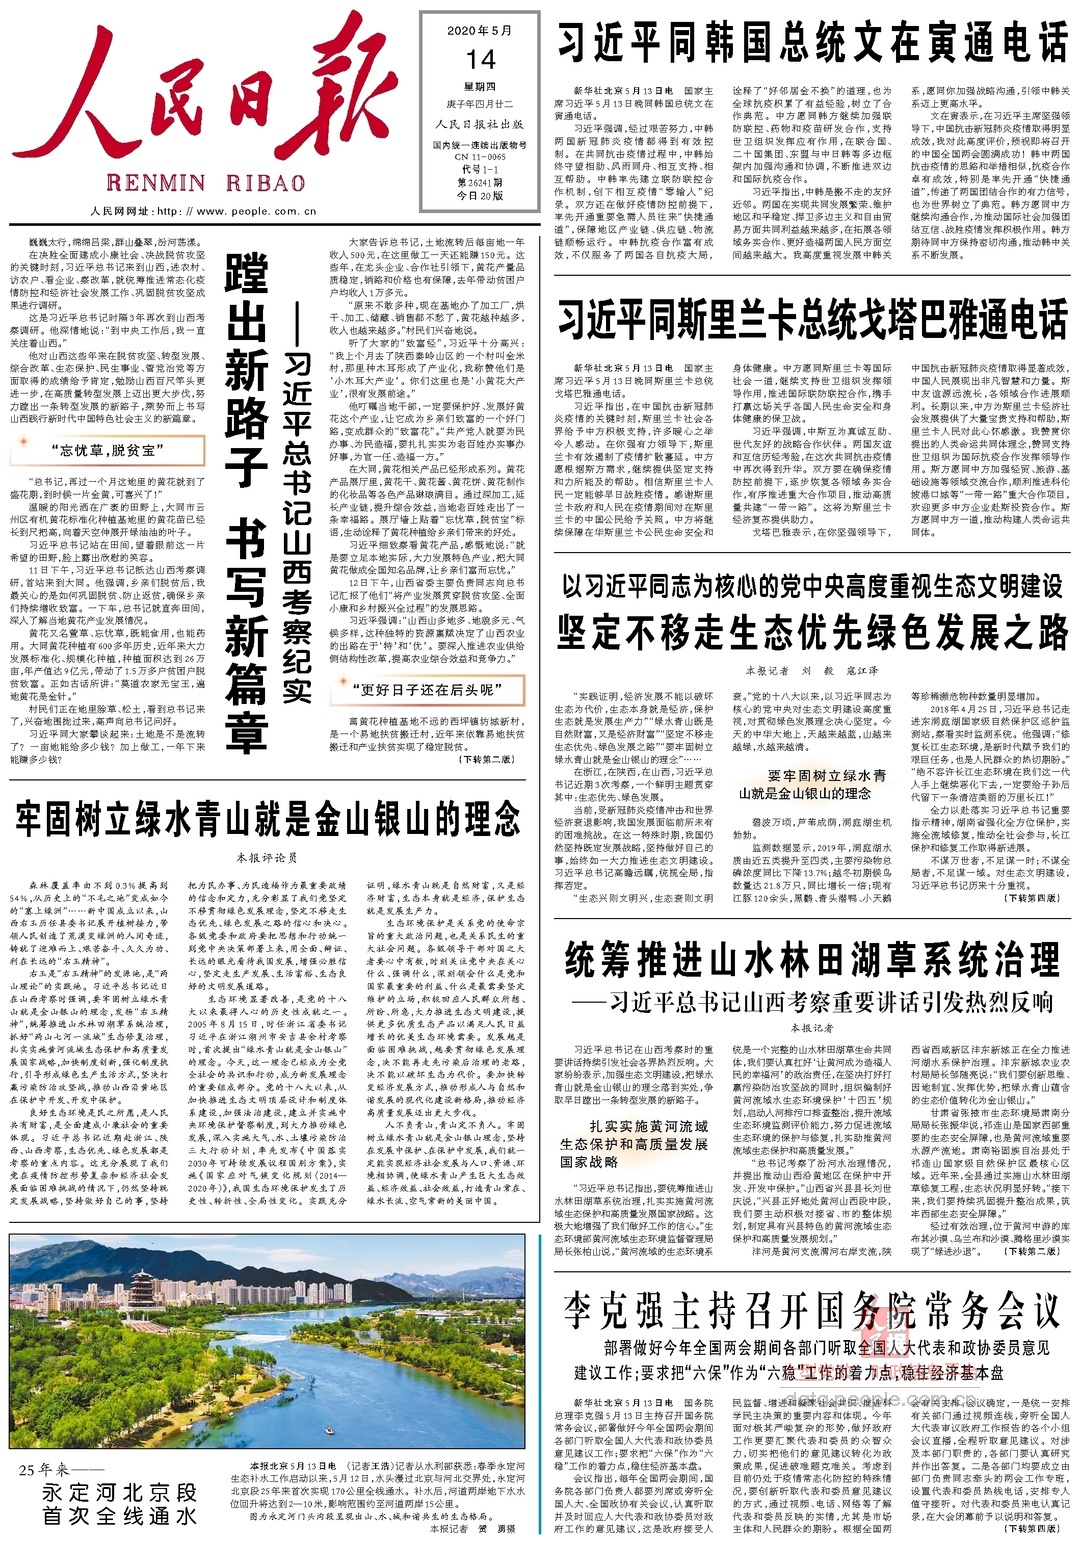pic: (5, 1228, 531, 1454)
